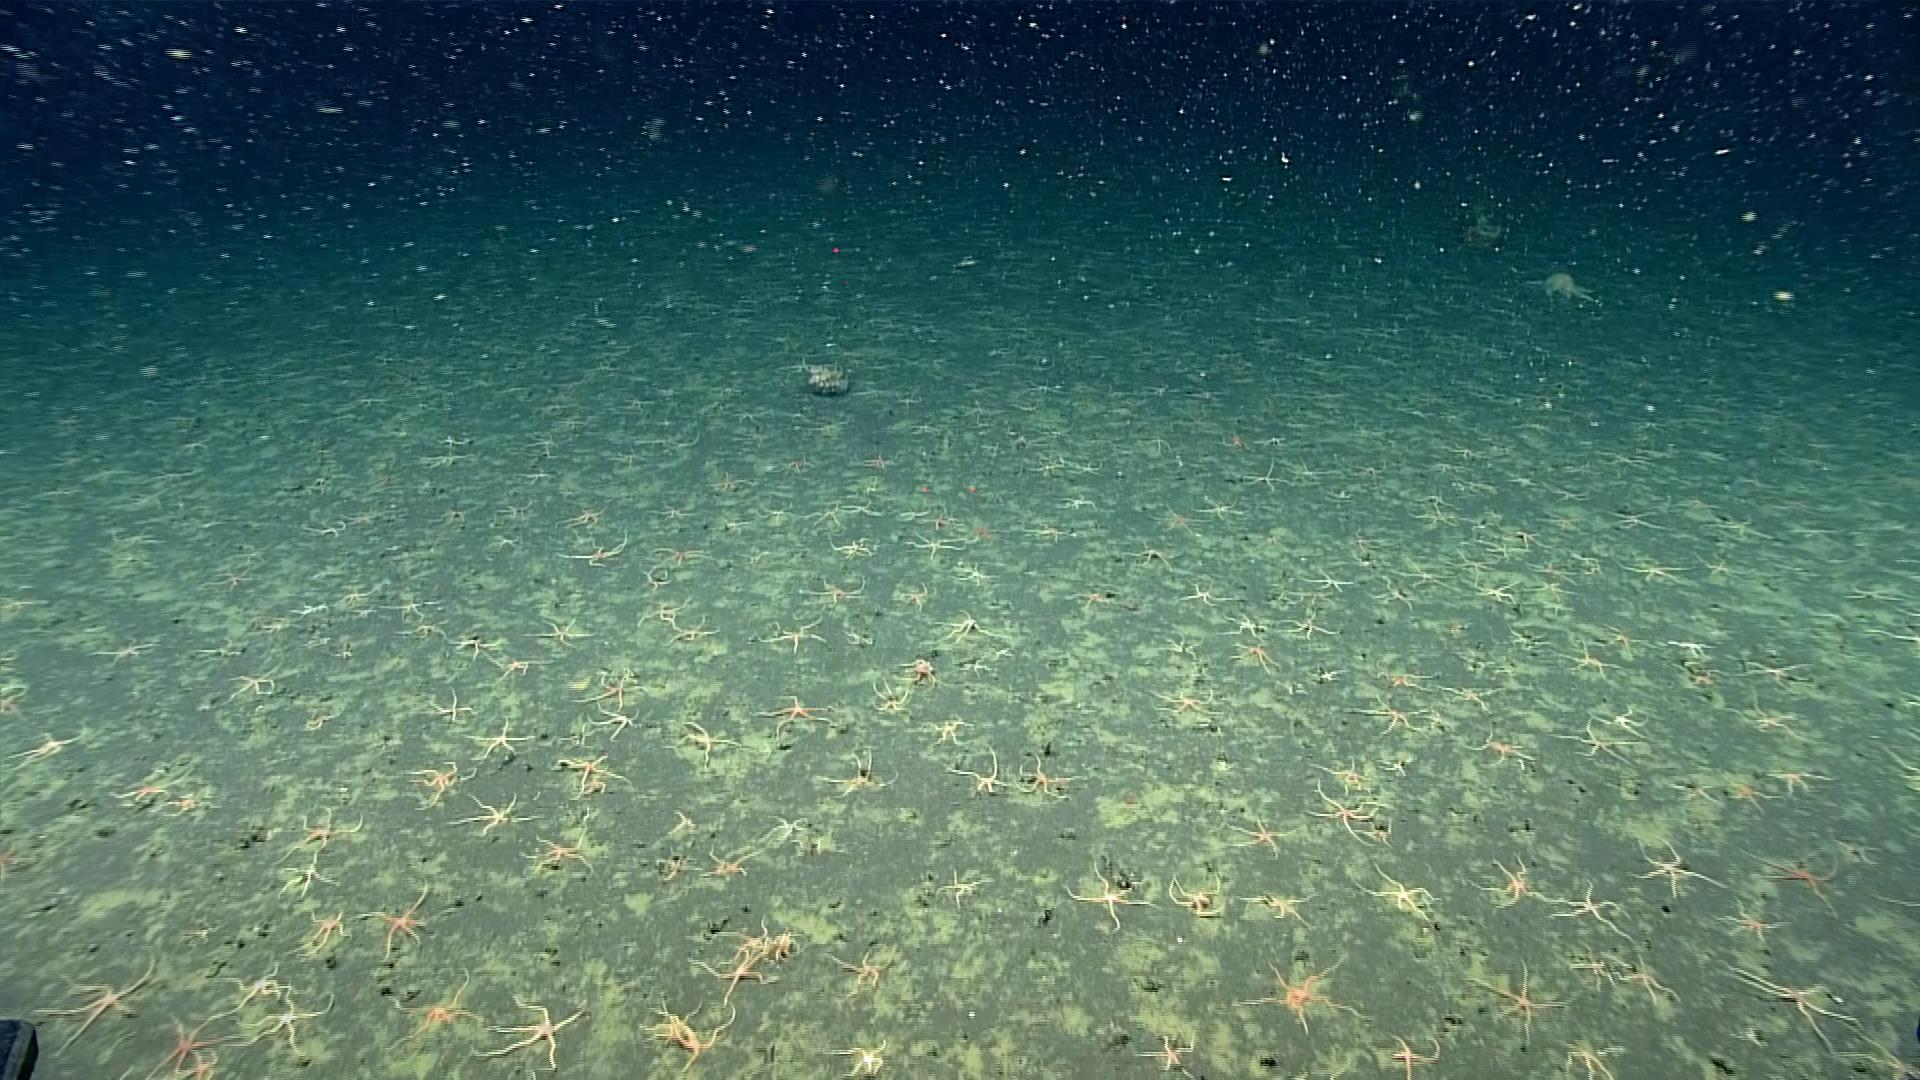brittle_sea_star: (30, 960, 154, 1060), (1729, 963, 1865, 1052), (1234, 956, 1373, 1035), (1461, 955, 1572, 1046), (471, 996, 588, 1069), (237, 986, 338, 1063), (1065, 860, 1162, 935), (636, 994, 736, 1065), (382, 967, 473, 1044), (145, 1006, 241, 1079), (353, 881, 433, 961), (1751, 844, 1841, 914), (1466, 853, 1564, 915), (1545, 881, 1638, 944), (1631, 837, 1729, 897), (1307, 775, 1377, 849), (1350, 860, 1436, 919), (687, 948, 770, 1007), (272, 807, 364, 860), (712, 914, 800, 967), (513, 603, 596, 657), (450, 793, 543, 839), (822, 745, 897, 802), (1548, 717, 1640, 764), (1838, 1026, 1919, 1079), (103, 765, 187, 814), (401, 760, 476, 814), (1721, 688, 1801, 736), (661, 720, 737, 769), (553, 753, 630, 800), (520, 827, 596, 874), (819, 949, 889, 1001), (1618, 952, 1681, 1009), (1718, 897, 1789, 947), (4, 729, 88, 771), (752, 694, 831, 738), (289, 906, 349, 964), (1344, 694, 1429, 735), (277, 845, 343, 897), (944, 746, 1010, 796), (467, 717, 537, 764), (219, 961, 285, 1010), (1366, 651, 1441, 694), (644, 612, 733, 646), (1232, 891, 1315, 928), (1556, 1038, 1630, 1079), (1014, 756, 1085, 798), (1549, 637, 1621, 679), (754, 615, 829, 653), (1464, 727, 1534, 767), (1133, 1034, 1197, 1077), (223, 659, 287, 702), (1572, 944, 1625, 994), (1150, 684, 1221, 721), (575, 674, 646, 711), (932, 869, 994, 910), (1439, 682, 1509, 717), (553, 535, 624, 570), (700, 841, 761, 881), (87, 637, 154, 673), (1308, 753, 1373, 790), (1225, 818, 1283, 858), (1166, 874, 1220, 918), (1617, 558, 1697, 587), (1706, 513, 1778, 545), (1225, 636, 1282, 675), (799, 574, 866, 607), (1389, 1035, 1441, 1076), (1280, 607, 1342, 641), (757, 810, 819, 844), (587, 704, 642, 742), (1596, 698, 1647, 738), (382, 591, 448, 622), (827, 1039, 887, 1072), (934, 611, 993, 644), (865, 676, 914, 716), (923, 712, 973, 750), (1175, 580, 1240, 608), (1734, 659, 1803, 684), (202, 560, 252, 595), (1605, 505, 1668, 531), (1695, 551, 1751, 580), (1768, 767, 1832, 793), (450, 629, 500, 661), (1865, 618, 1919, 647), (654, 847, 696, 884), (1305, 563, 1356, 593), (493, 653, 550, 679), (330, 580, 377, 611), (169, 787, 224, 812), (431, 688, 469, 724), (948, 559, 993, 589), (1222, 612, 1269, 640), (1472, 576, 1520, 601), (400, 615, 446, 641), (0, 832, 26, 877), (1724, 781, 1764, 808), (901, 658, 936, 683), (666, 807, 699, 833), (290, 596, 331, 617), (257, 615, 295, 633), (1545, 513, 1586, 530)
